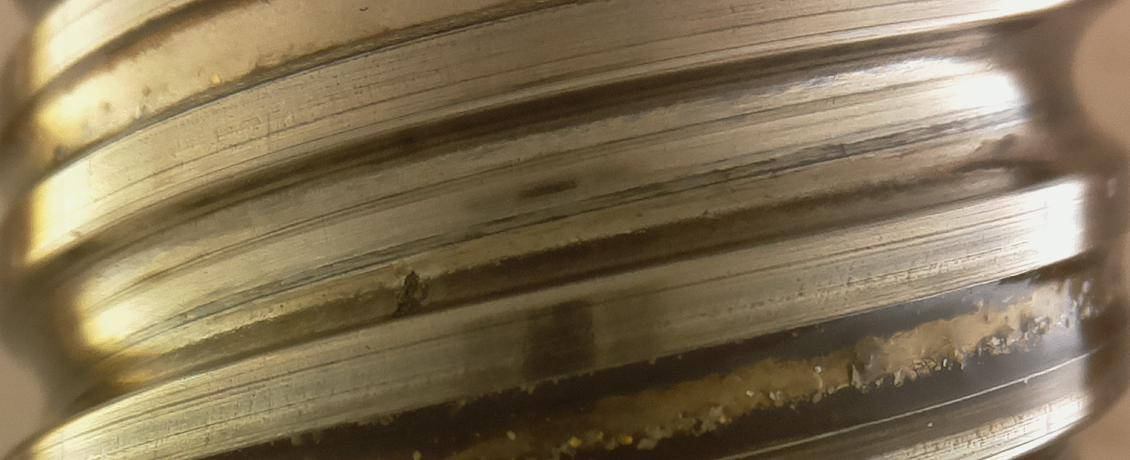pitting: (390, 270, 432, 318)
